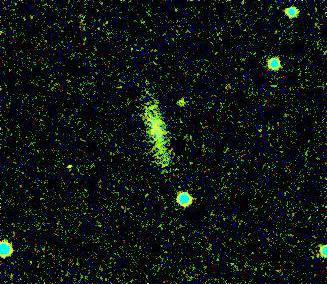star: (166, 88, 196, 118)
